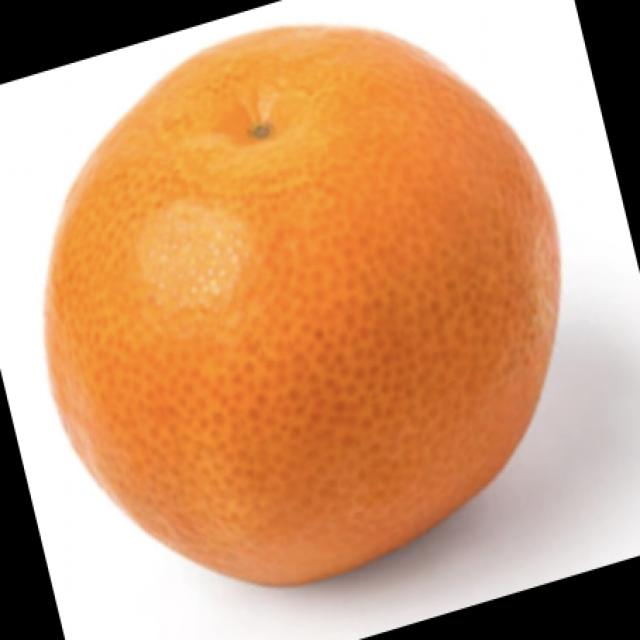fresh: (36, 19, 591, 605)
